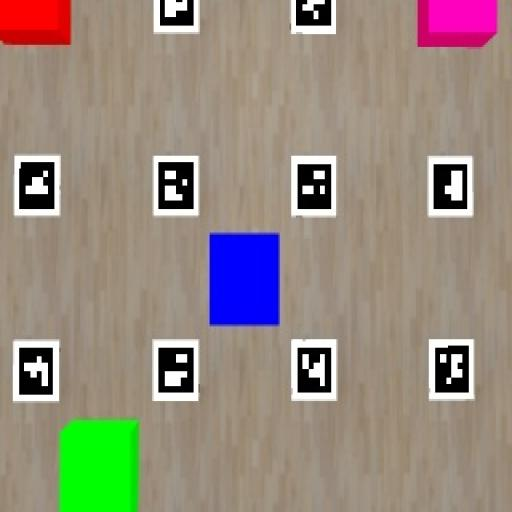car: (60, 419, 139, 511), (208, 233, 279, 326), (418, 0, 499, 46)
fire: (0, 0, 70, 44)
